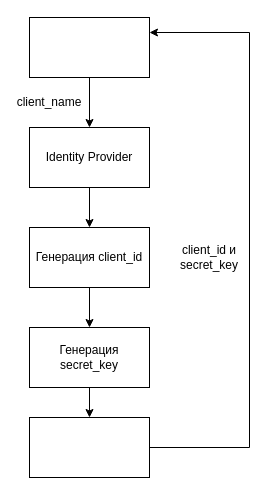
This 275x495 diagram has some shape labels left out. The centre of each missing label's shape, as x and y in pixels:
"Клиент" belongs at point (89, 47).
"Сохранение в бд" belongs at point (89, 447).
